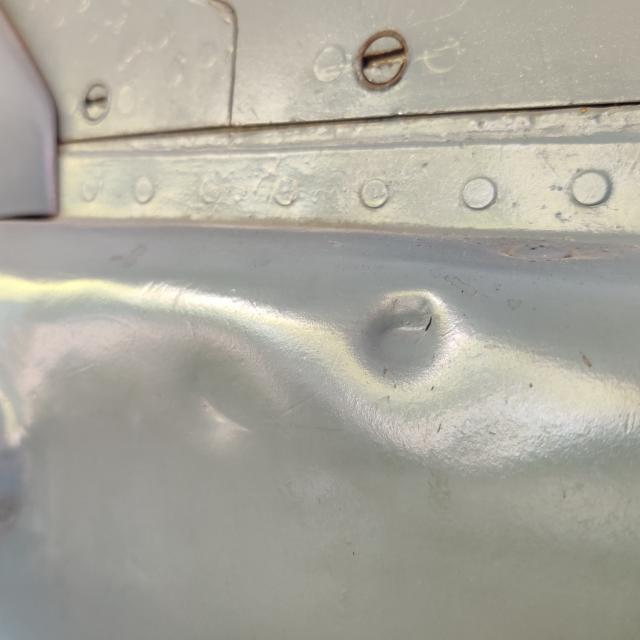dent: (329, 265, 482, 416), (160, 352, 277, 457)
